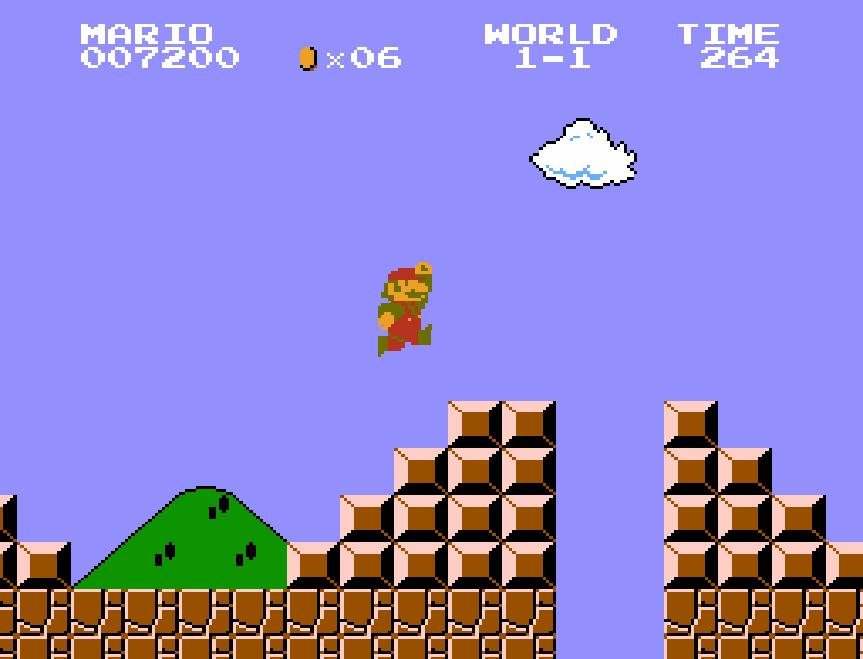big_mario: (376, 260, 434, 358)
